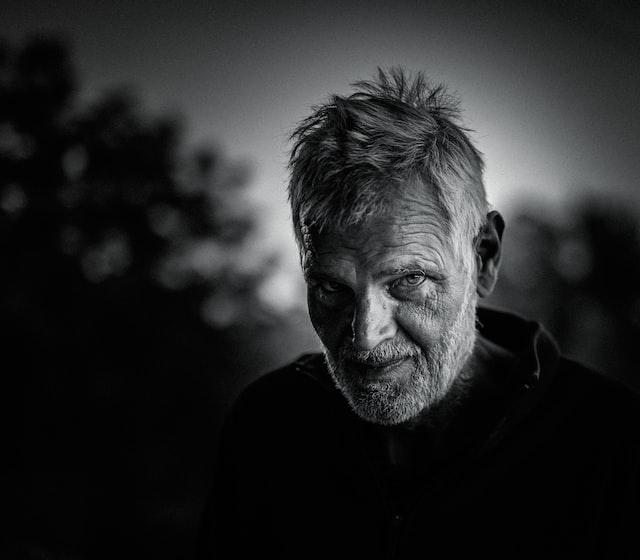crows_feet: (428, 270, 444, 298)
forehead: (404, 199, 444, 244)
gummy_smile: (390, 316, 426, 348)
